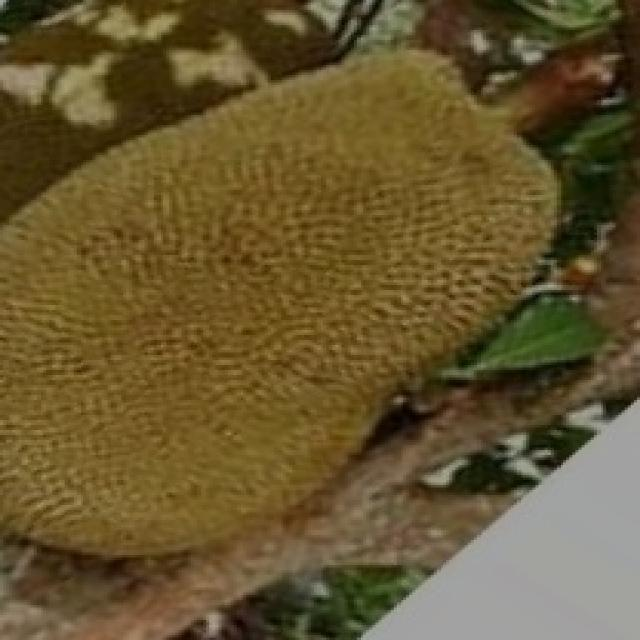Fruit: (252, 3, 616, 385)
